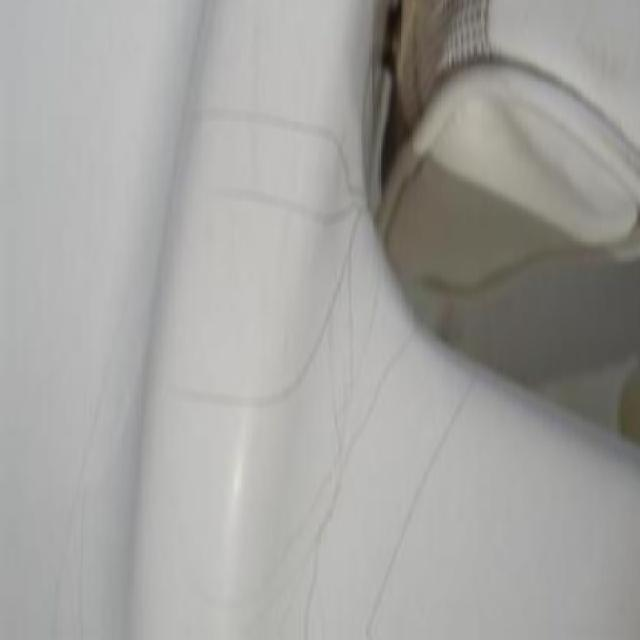crack: (210, 175, 344, 246), (186, 384, 300, 450), (229, 94, 348, 152)
